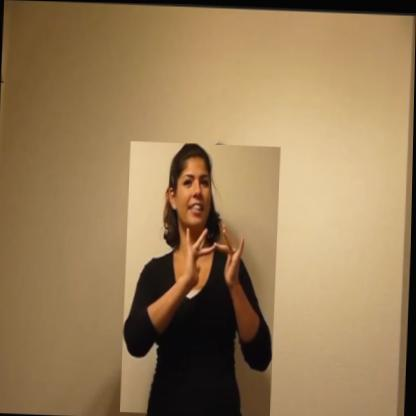Internet: (121, 140, 281, 416)
